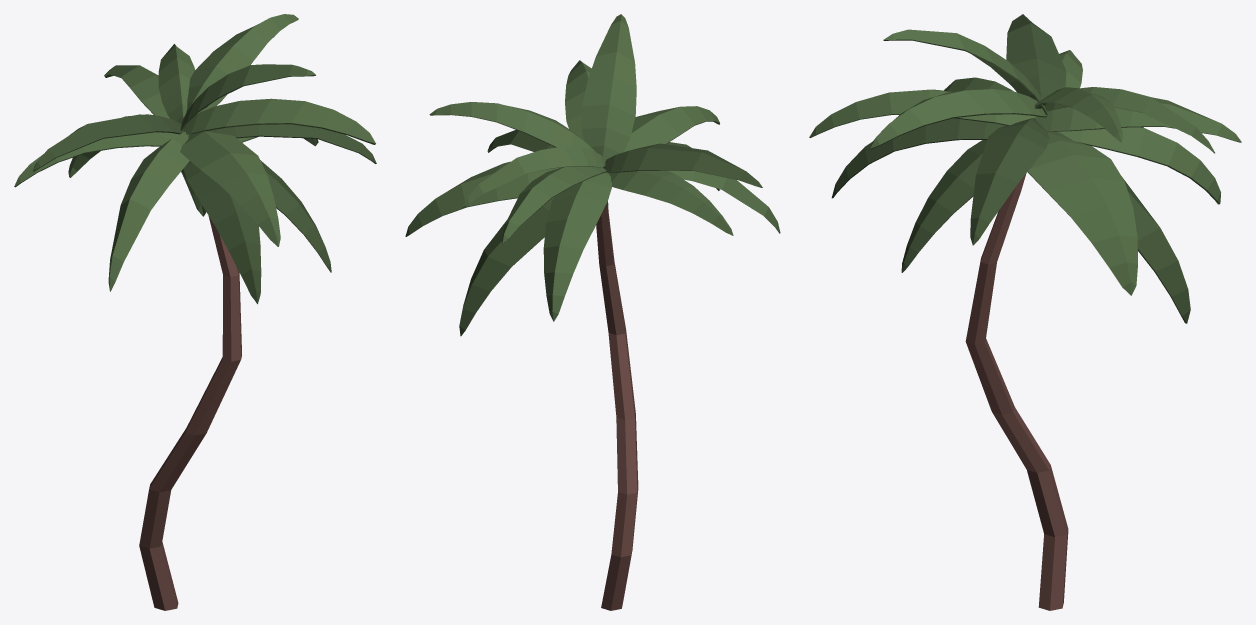
Rendered from palmtree_1.008_lev1.glb.
The picture shows the model from 3 angles, left to right: view 1: azimuth 30°, elevation 25°; view 2: azimuth 150°, elevation 25°; view 3: azimuth 270°, elevation 25°; orthographic projection. The views are drawn at different scales.
Visible parts, largest first — view 1: palmtree_1.008_lev1; view 2: palmtree_1.008_lev1; view 3: palmtree_1.008_lev1.
Boxes of the visible parts, left/top/right/bottom form: palmtree_1.008_lev1: left=14, top=14, right=376, bottom=610; palmtree_1.008_lev1: left=405, top=14, right=780, bottom=610; palmtree_1.008_lev1: left=809, top=14, right=1241, bottom=610.
Bounding box in the file's own units: 2.74 × 4.47 × 2.9.
